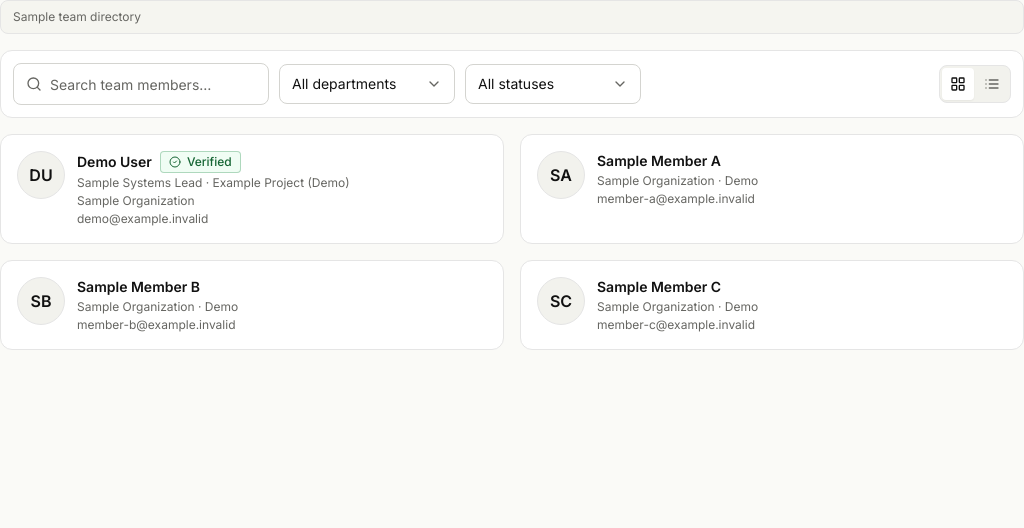
Business Components & Wendoro Demo Showcase › renders TeamDirectory with synthetic demo members, search, and grid/list views without inventing missing details
The image size is (1024, 528).
Expected: the text "Demo User" is shown, x1=77 y1=152 x2=152 y2=172
Expected: the text "Sample Systems Lead · Example Project (Demo)" is shown, x1=77 y1=175 x2=350 y2=191
// Switch to List view
Click the button named "List view": (992, 84) x1=976 y1=68 x2=1008 y2=100
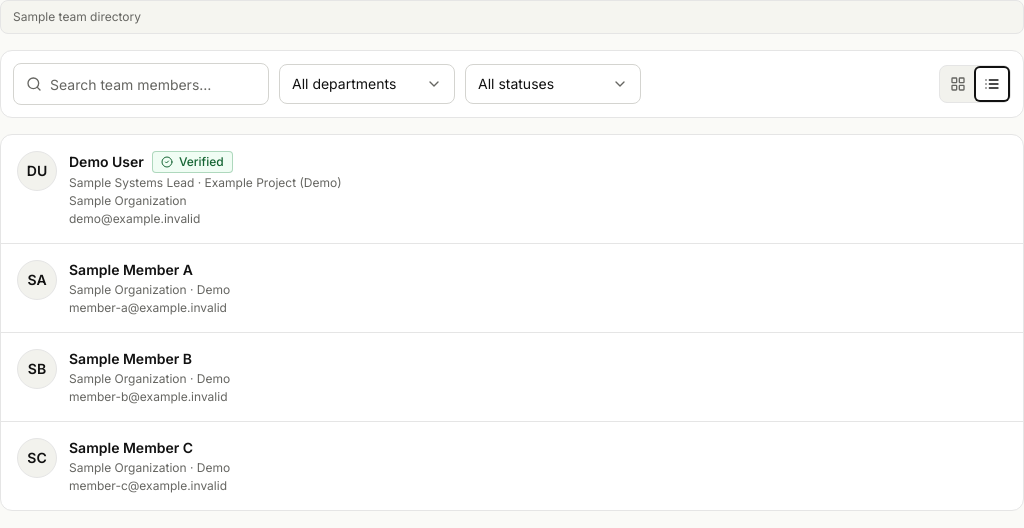
Expected: the button named "List view" is pressed, x1=976 y1=68 x2=1008 y2=100
// Search filter
In the search field: (155, 84) x1=42 y1=64 x2=268 y2=104, type "Member A"
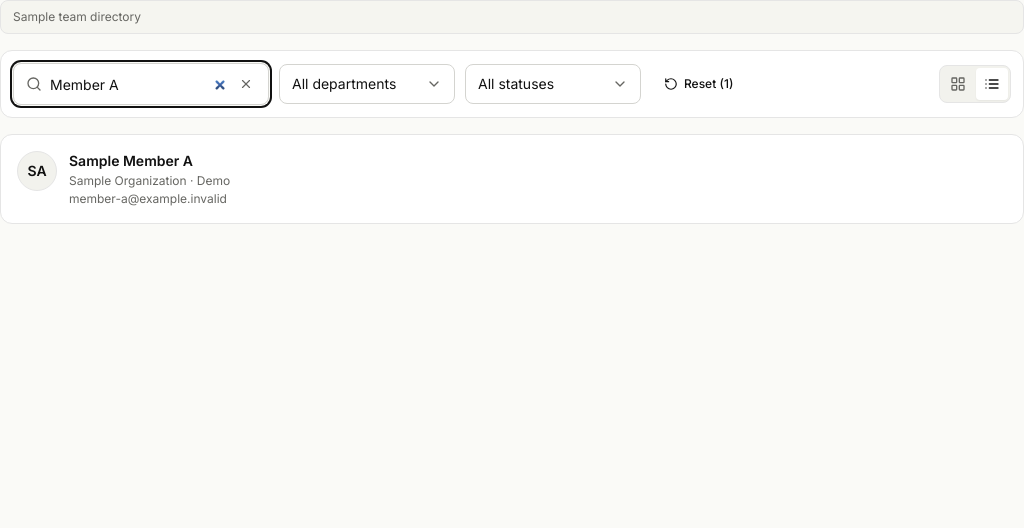
Expected: the text "Sample Member A" is shown, x1=69 y1=151 x2=193 y2=171
Expected: the text "Demo User" is gone
